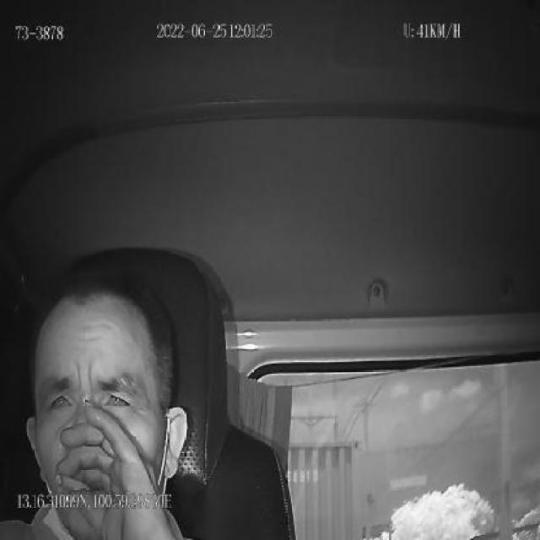smoking: (55, 474, 90, 490)
